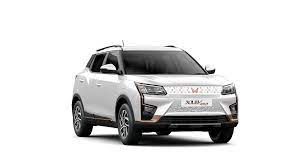XUV 400: (71, 41, 240, 146)
